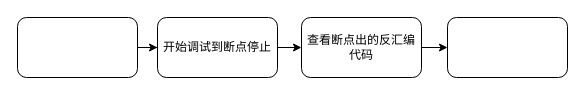
The diagram is 585 pixels wide and 95 high, and some of its shapes have lost their labels. The centre of each missing label's shape, as x and y in pixels:
"分析编译器的行为" belongs at (x=507, y=47).
"在case函数添加断点" belongs at (x=77, y=47).
